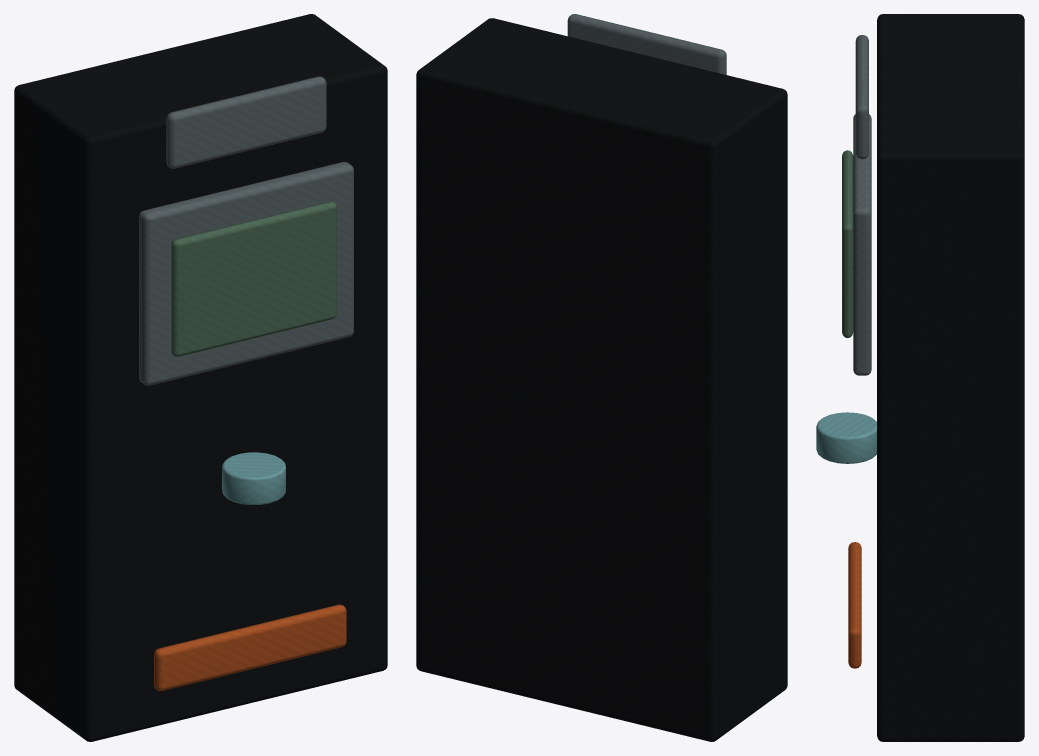
The model's file is RadiationMeter.fbx.
3 views of the same model, side by side, from view 1: azimuth 30°, elevation 25°; view 2: azimuth 150°, elevation 25°; view 3: azimuth 270°, elevation 25° (orthographic). The views are drawn at different scales.
Visible parts, largest first — view 1: RadiationMeter_Mesh; view 2: RadiationMeter_Mesh; view 3: RadiationMeter_Mesh.
Part boxes in pixels (x1,y1,x2,y2): RadiationMeter_Mesh: [14, 14, 387, 741]; RadiationMeter_Mesh: [416, 14, 787, 741]; RadiationMeter_Mesh: [816, 14, 1024, 741].
Size of the model in its own units: 46 by 90 by 28.25.
5 materials, 5 textured.
